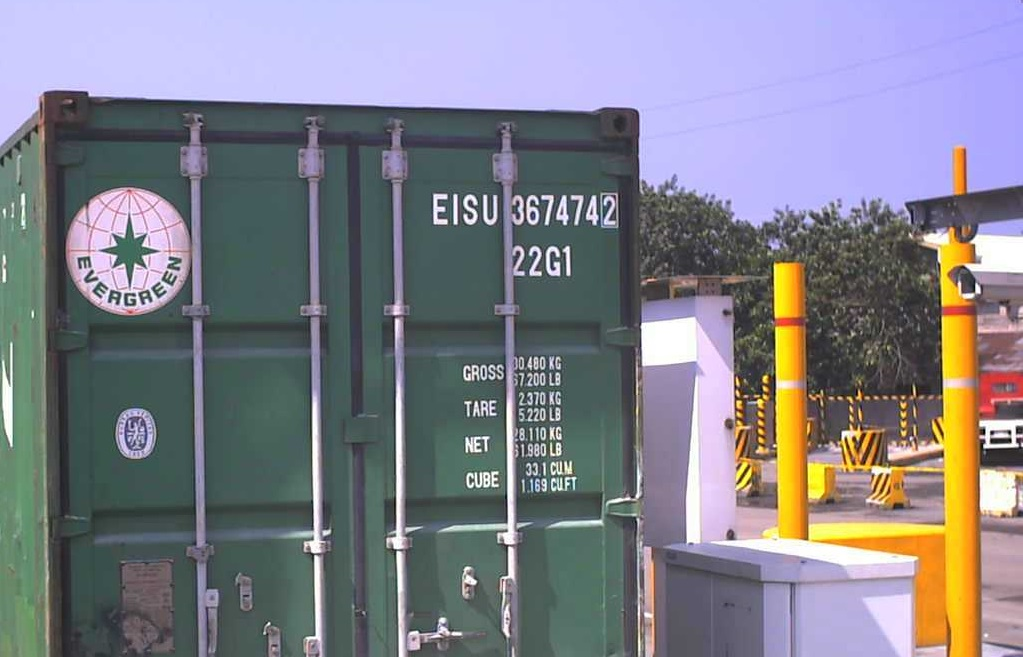container_door: (43, 87, 646, 655)
